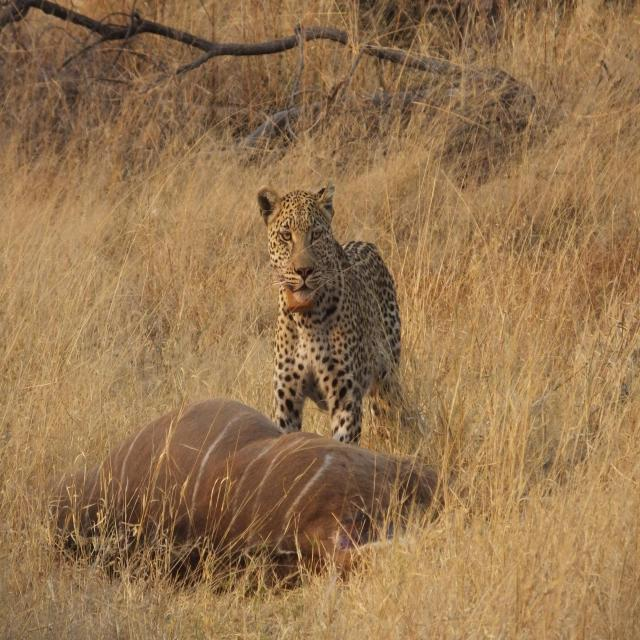Leopard: (253, 176, 414, 448)
